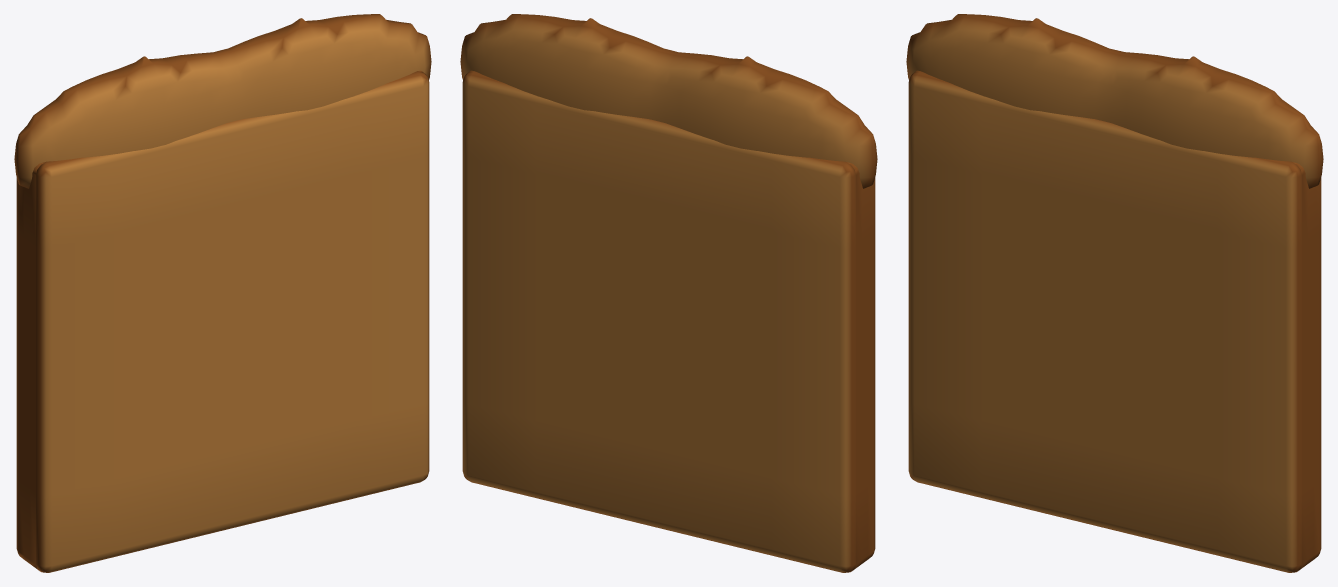
File: toast.glb
The picture shows the model from 3 angles, left to right: view 1: azimuth 30°, elevation 25°; view 2: azimuth 150°, elevation 25°; view 3: azimuth 330°, elevation 25°; orthographic projection.
Visible parts, largest first — view 1: toast; view 2: toast; view 3: toast.
Boxes of the visible parts, left/top/right/bottom form: toast: left=14, top=14, right=431, bottom=572; toast: left=460, top=14, right=877, bottom=572; toast: left=906, top=14, right=1323, bottom=572.
Size of the model in its own units: 0.1053 by 0.1177 by 0.013.
